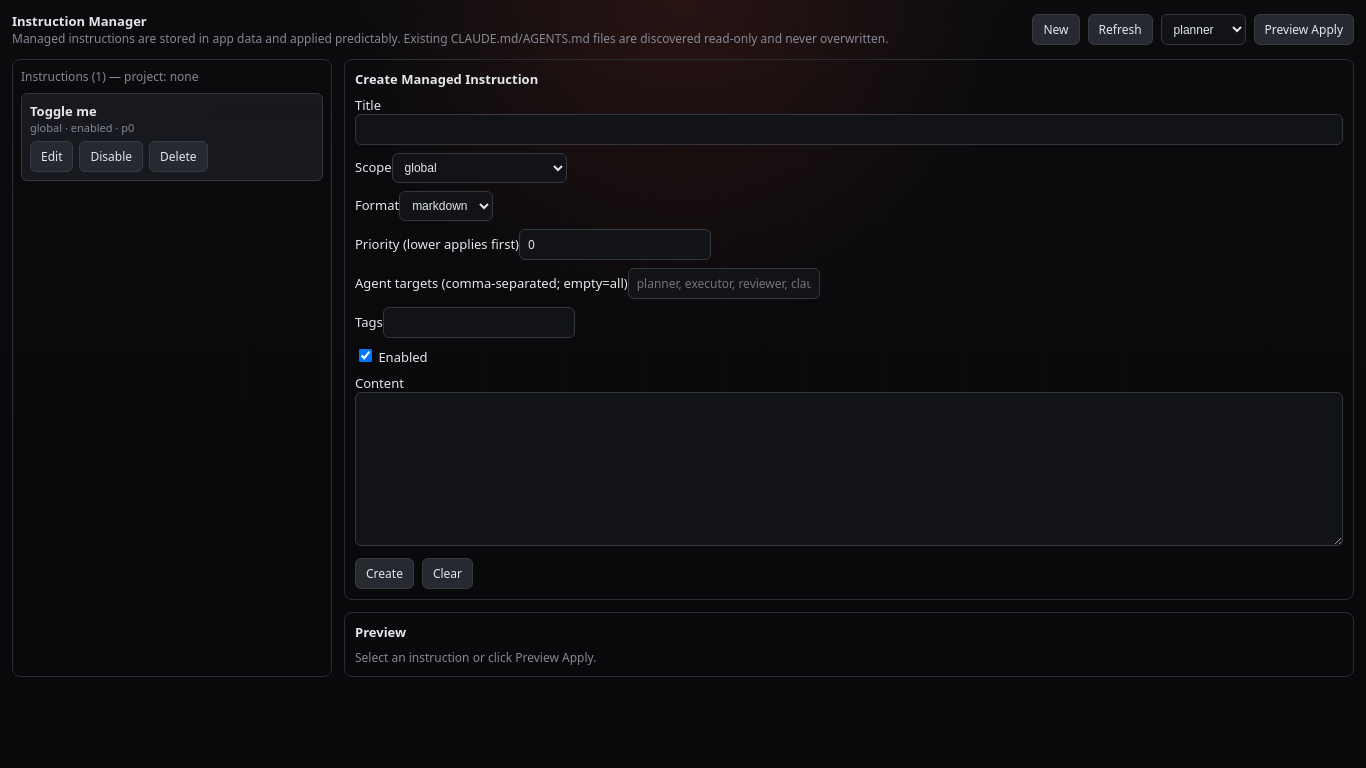
Test: InstructionManager › disables and re-enables an instruction
Expected: the text "Toggle me" is shown, [30, 102, 97, 120]
Click the button "Disable".
click(111, 156)  # box [80, 141, 143, 172]
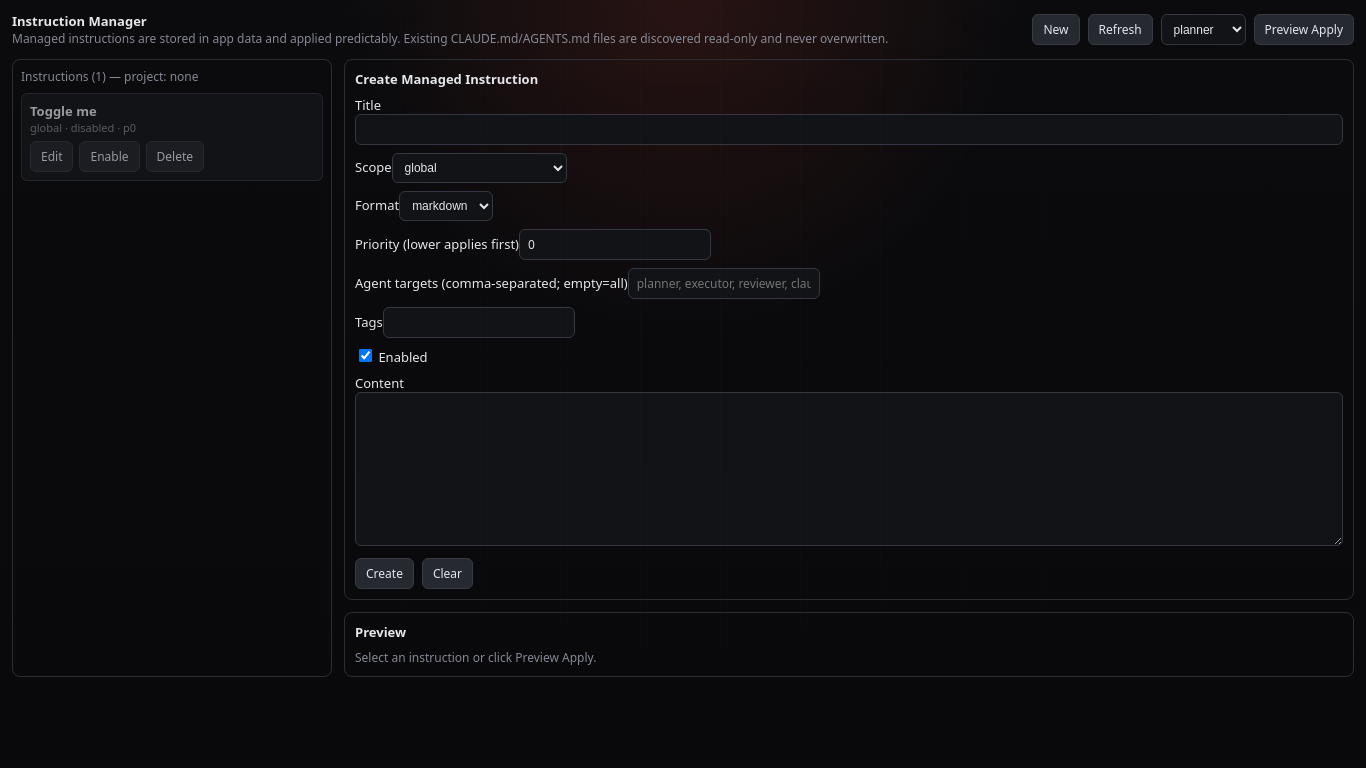
Expected: the text "global · disabled · p0" is shown, [30, 120, 136, 135]
Click the button "Enable".
click(110, 156)  # box [80, 141, 140, 172]
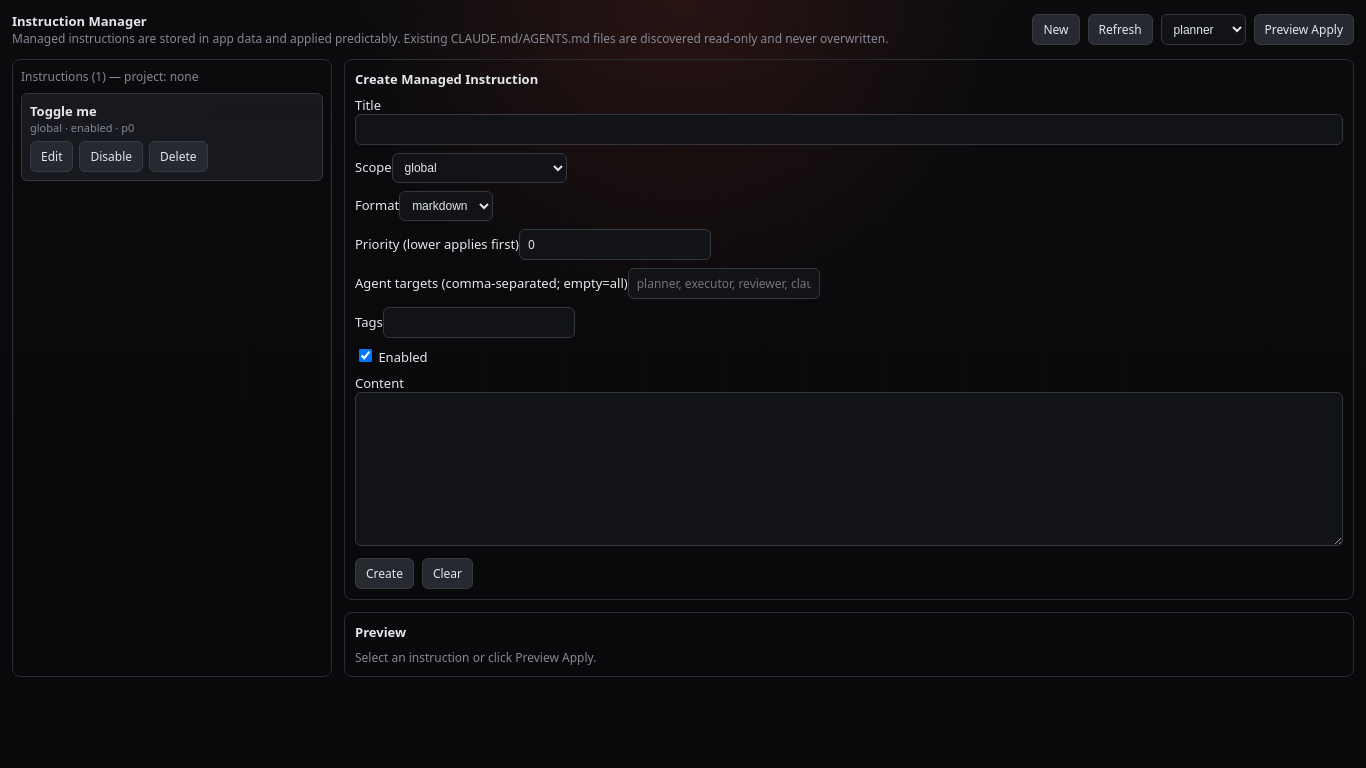
Expected: the text "global · enabled · p0" is shown, [30, 120, 134, 135]
